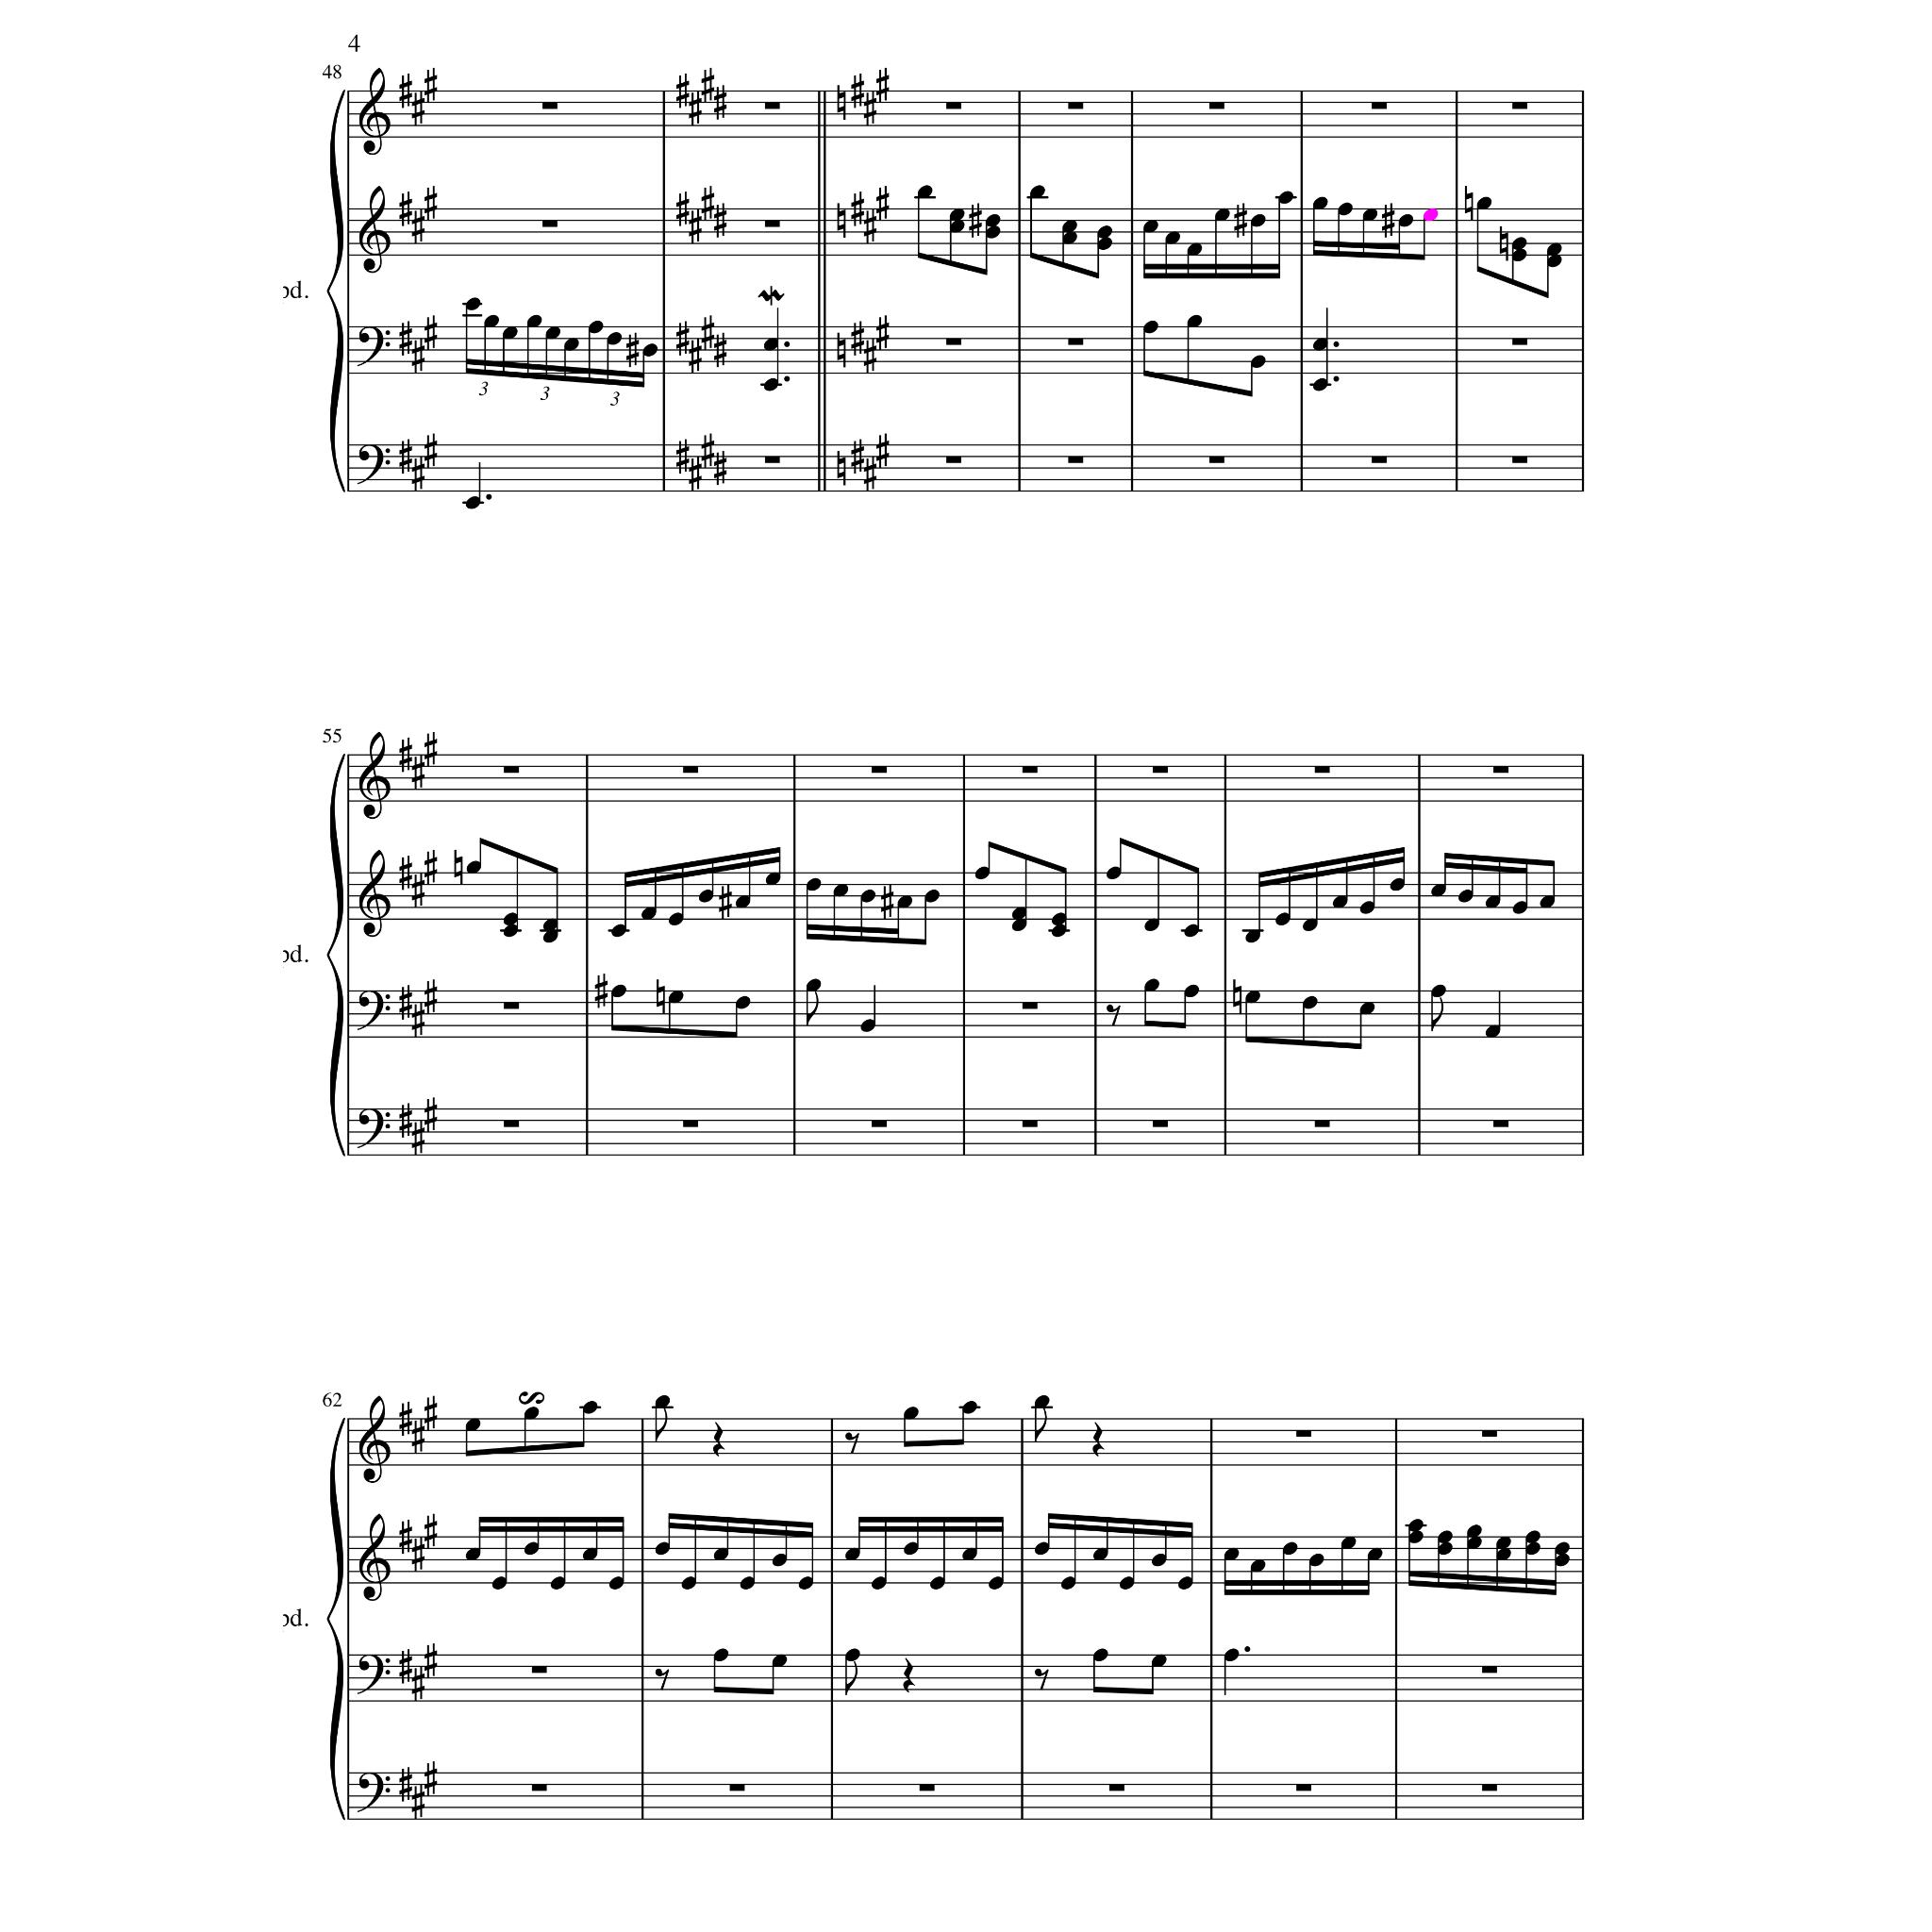brace: (326, 90, 345, 493), (326, 754, 345, 1158), (326, 1417, 345, 1821)
fClef: (357, 326, 391, 368), (357, 1108, 391, 1149), (357, 1772, 391, 1813), (357, 445, 391, 485), (357, 991, 391, 1030), (357, 1655, 391, 1694)
flag8thDown: (845, 1660, 858, 1696), (806, 991, 819, 1025), (1034, 1408, 1047, 1442), (655, 1408, 668, 1442), (1432, 996, 1443, 1032)
gClef: (358, 185, 391, 274), (358, 67, 391, 156), (358, 731, 391, 820), (358, 849, 391, 938), (358, 1395, 391, 1484), (358, 1513, 391, 1602)
noteheadBlack: (1475, 196, 1492, 211), (1096, 225, 1113, 240), (1430, 883, 1447, 898), (832, 883, 849, 898), (1524, 1541, 1541, 1557), (1281, 1541, 1298, 1557), (523, 1541, 540, 1557), (1313, 196, 1328, 211), (985, 225, 1000, 240), (1034, 1394, 1049, 1409), (1034, 1541, 1049, 1557), (1555, 1541, 1570, 1557), (1438, 1541, 1453, 1557), (655, 1394, 670, 1409), (655, 1541, 670, 1557), (904, 1541, 919, 1557), (1164, 232, 1181, 245), (1277, 192, 1294, 205), (606, 332, 623, 345), (587, 321, 604, 334), (762, 338, 779, 351), (762, 378, 779, 391), (641, 343, 658, 357), (483, 315, 500, 328), (464, 496, 481, 509), (464, 298, 481, 311), (1028, 186, 1045, 199), (1096, 237, 1113, 250), (1143, 919, 1160, 932), (1106, 867, 1123, 880), (1183, 985, 1200, 998), (1183, 924, 1200, 938), (1143, 979, 1160, 992), (1511, 902, 1528, 915), (1430, 985, 1447, 998), (1358, 1002, 1375, 1015), (1358, 902, 1375, 915), (1485, 1025, 1502, 1039), (1485, 895, 1502, 908), (640, 907, 657, 920), (734, 996, 751, 1009), (502, 924, 519, 938), (541, 919, 558, 932), (541, 930, 558, 943), (502, 913, 519, 926), (734, 895, 751, 908), (896, 895, 913, 908), (974, 867, 991, 880), (764, 873, 781, 886), (1177, 1576, 1194, 1590), (1119, 1576, 1136, 1590), (1223, 1648, 1240, 1661), (1223, 1548, 1240, 1561), (1060, 1576, 1077, 1590), (1466, 1537, 1483, 1550), (1466, 1524, 1483, 1538), (1524, 1530, 1541, 1543), (1307, 1554, 1324, 1567), (1366, 1548, 1383, 1561), (1249, 1559, 1266, 1573), (1407, 1519, 1424, 1532), (1407, 1530, 1424, 1543), (608, 1576, 625, 1590), (549, 1576, 566, 1590), (581, 1401, 598, 1414), (581, 1548, 598, 1561), (491, 1576, 508, 1590), (523, 1407, 540, 1420), (464, 1418, 481, 1431), (464, 1548, 481, 1561), (870, 1576, 887, 1590), (928, 1576, 945, 1590), (1313, 338, 1328, 351), (1313, 378, 1328, 391), (1338, 203, 1353, 216), (1187, 315, 1202, 328), (1187, 243, 1202, 257), (1251, 356, 1266, 369), (1251, 214, 1266, 227), (1215, 208, 1230, 222), (1547, 243, 1562, 257), (1423, 208, 1438, 222), (1398, 214, 1413, 227), (1362, 208, 1377, 222), (1547, 255, 1562, 268), (1511, 237, 1526, 250), (1511, 249, 1526, 262), (564, 338, 579, 351), (545, 326, 560, 340), (526, 315, 541, 328), (502, 326, 517, 340), (985, 214, 1000, 227), (1143, 321, 1158, 334), (1143, 220, 1158, 233), (1062, 220, 1077, 233), (1062, 232, 1077, 245), (949, 208, 964, 222), (917, 186, 932, 199), (949, 220, 964, 233), (1302, 919, 1317, 932), (1332, 895, 1347, 908), (1302, 996, 1317, 1009), (1275, 913, 1291, 926), (1245, 991, 1260, 1004), (1245, 930, 1260, 943), (1540, 895, 1555, 908), (1390, 878, 1405, 891), (1458, 890, 1474, 903), (698, 890, 713, 903), (668, 991, 683, 1004), (668, 913, 683, 926), (611, 985, 626, 998), (611, 924, 626, 938), (466, 861, 481, 874), (860, 1019, 875, 1032), (860, 890, 875, 903), (924, 890, 940, 903), (1051, 913, 1066, 926), (1011, 919, 1026, 932), (806, 979, 821, 992), (806, 878, 821, 891), (1051, 924, 1066, 938), (1011, 907, 1026, 920), (1151, 1655, 1166, 1668), (1151, 1554, 1166, 1567), (989, 1576, 1004, 1590), (1092, 1548, 1108, 1561), (1092, 1648, 1108, 1661), (1555, 1554, 1570, 1567), (1496, 1537, 1511, 1550), (1496, 1548, 1511, 1561), (1341, 1537, 1357, 1550), (1438, 1530, 1453, 1543), (681, 1576, 696, 1590), (962, 1548, 977, 1561), (962, 1401, 977, 1414), (904, 1407, 919, 1420), (772, 1554, 787, 1567), (772, 1655, 787, 1668), (845, 1648, 860, 1661), (845, 1548, 860, 1561), (713, 1548, 728, 1561), (713, 1648, 728, 1661), (740, 1576, 755, 1590), (798, 1576, 813, 1590)
rest8th: (1106, 1005, 1121, 1027), (1034, 1669, 1049, 1691), (655, 1669, 670, 1691), (844, 1432, 859, 1455)
restQuarter: (1092, 1422, 1104, 1457), (713, 1422, 724, 1457), (904, 1658, 915, 1692)
restWhole: (945, 339, 962, 346), (945, 102, 962, 109), (945, 457, 962, 464), (1511, 339, 1528, 346), (1511, 457, 1528, 464), (1511, 102, 1528, 109), (541, 221, 558, 228), (541, 102, 558, 109), (1021, 766, 1038, 774), (1021, 1002, 1038, 1009), (1021, 1120, 1038, 1127), (1313, 766, 1330, 774), (1313, 1120, 1330, 1127), (1492, 1120, 1509, 1127), (1492, 766, 1509, 774), (728, 1784, 745, 1791), (530, 1666, 547, 1674), (530, 1784, 547, 1791), (1481, 1430, 1498, 1438), (1481, 1666, 1498, 1674), (1481, 1784, 1498, 1791), (1372, 102, 1387, 109), (1372, 457, 1387, 464), (1209, 457, 1224, 464), (764, 102, 779, 109), (764, 221, 779, 228), (764, 457, 779, 464), (1068, 102, 1083, 109), (1068, 339, 1083, 346), (1068, 457, 1083, 464), (1209, 102, 1224, 109), (683, 766, 698, 774), (683, 1120, 698, 1127), (872, 766, 887, 774), (872, 1120, 887, 1127), (1153, 766, 1168, 774), (1153, 1120, 1168, 1127), (504, 1120, 519, 1127), (504, 1002, 519, 1009), (504, 766, 519, 774), (1296, 1430, 1311, 1438), (1109, 1784, 1124, 1791), (1296, 1784, 1311, 1791), (919, 1784, 934, 1791)
